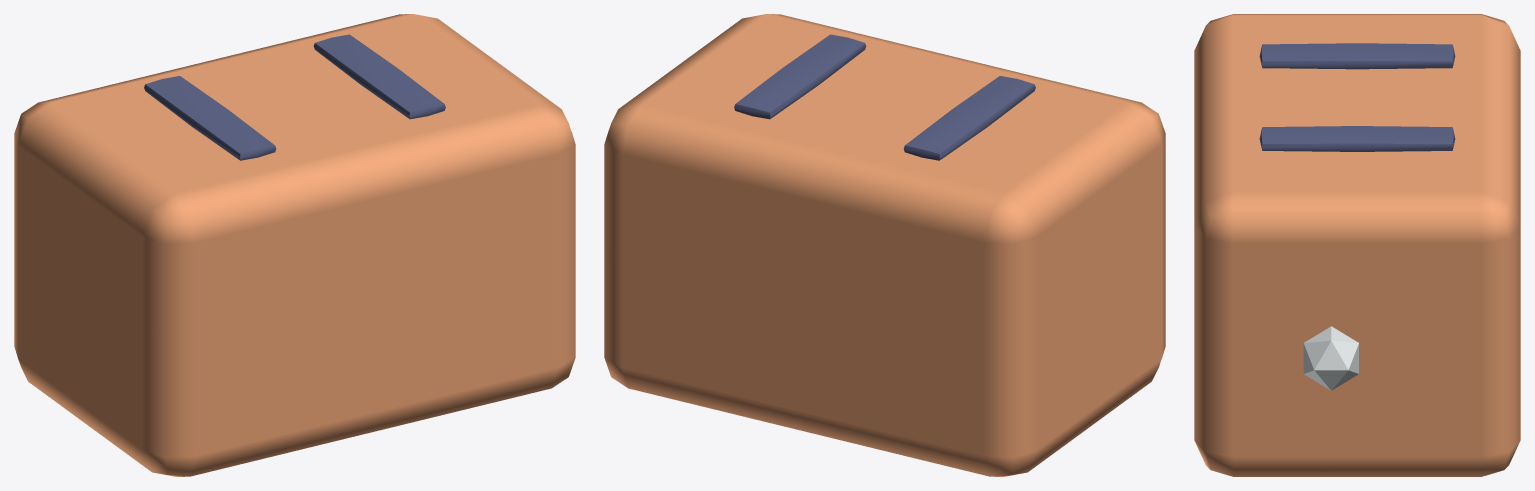
Rendered from toaster.glb.
3 views of the same model, side by side, from view 1: azimuth 30°, elevation 25°; view 2: azimuth 150°, elevation 25°; view 3: azimuth 270°, elevation 25° (orthographic).
Parts seen in each view (by area): view 1: part (×3); view 2: part (×3); view 3: part (×4).
Part boxes in pixels (bbox=[...]): part (×3): bbox=[14, 14, 575, 476]; part (×3): bbox=[604, 14, 1165, 476]; part (×4): bbox=[1194, 14, 1520, 476].
Bounding box in the file's own units: 0.4163 × 0.25 × 0.25.
1 material, 1 textured.
